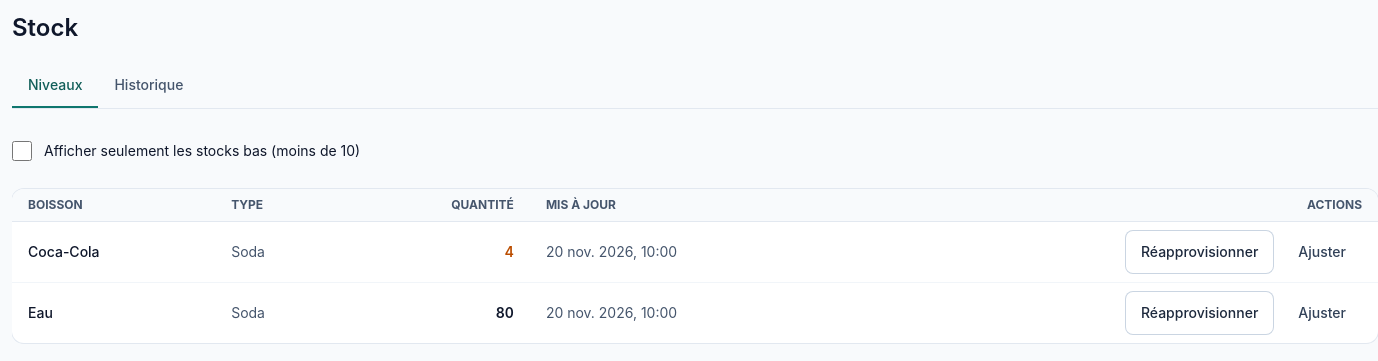
Test: page Stock › affiche l'historique avec les variations signées et « Système » sans auteur
The image size is (1378, 361).
Click the tab "Historique": [149, 86] box [98,64,199,108]
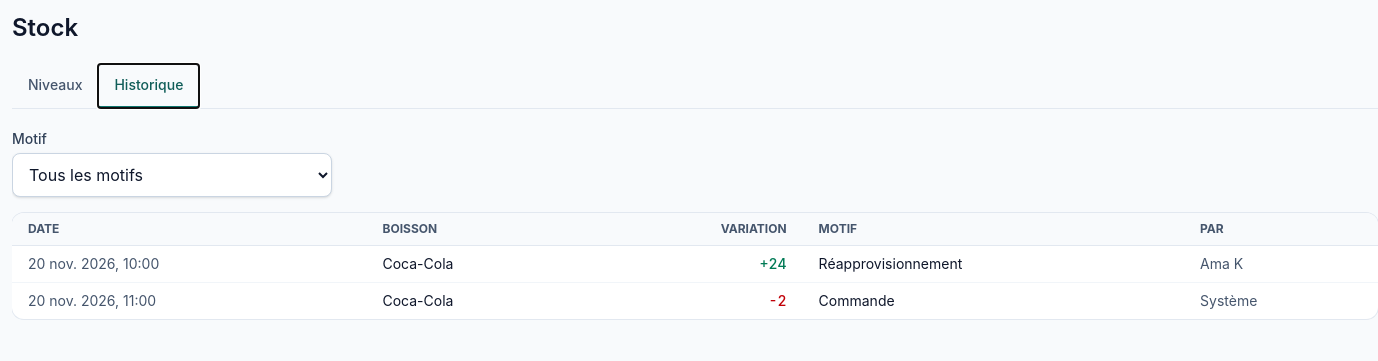
Expected: the text "+24" is shown, [590,246,803,282]
Expected: the text "-2" is shown, [590,282,803,319]
Expected: the text "Système" is shown, [1184,282,1377,319]
